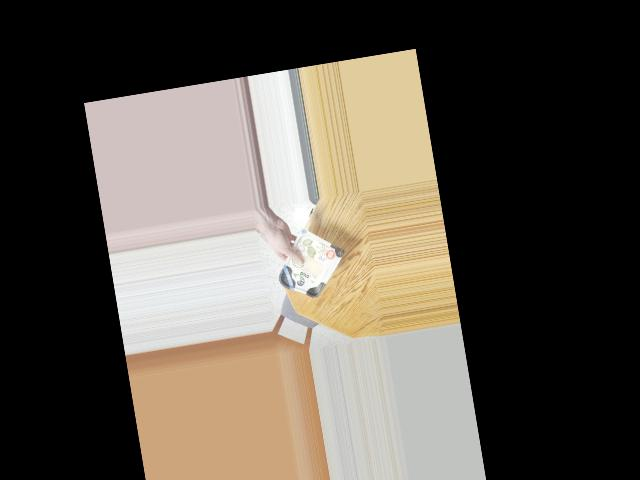cheese: (271, 234, 345, 303)
